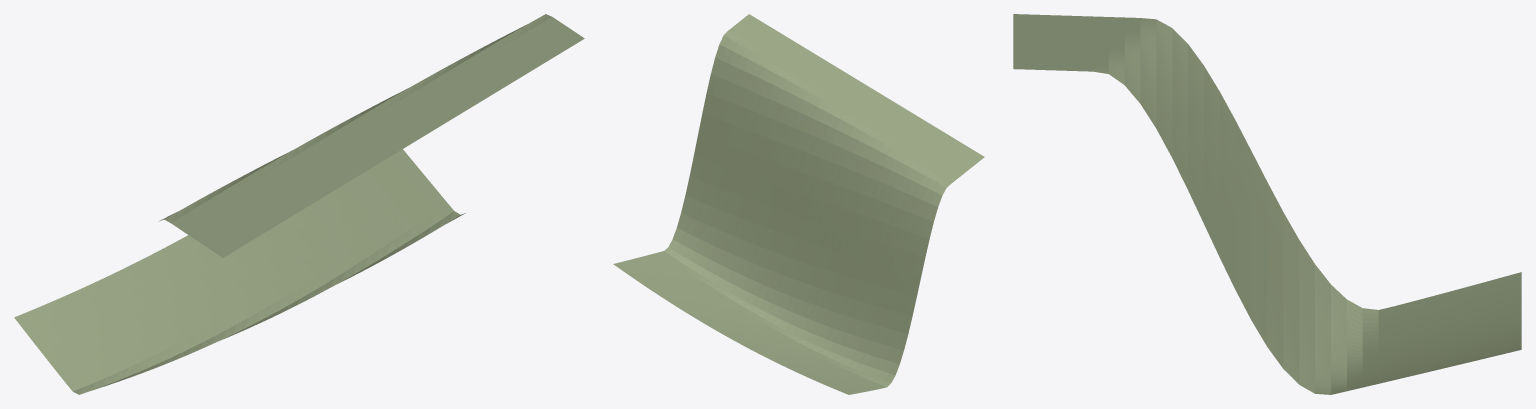
The model's file is alpine-11-11.glb.
3 renders of one model, left to right at view 1: azimuth 30°, elevation 25°; view 2: azimuth 150°, elevation 25°; view 3: azimuth 270°, elevation 25°, orthographic. The views are drawn at different scales.
Parts seen in each view (by area): view 1: alpine-11-11; view 2: alpine-11-11; view 3: alpine-11-11.
Boxes of the visible parts, x1,y1,x2,y2 form: alpine-11-11: (14, 14, 584, 394); alpine-11-11: (613, 14, 984, 394); alpine-11-11: (1013, 14, 1521, 394).
Bounding box in the file's own units: 256 × 253 × 256.
